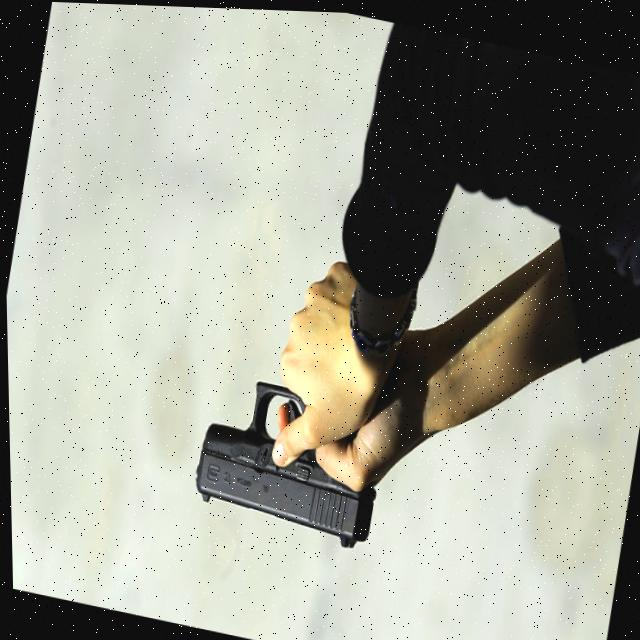pistol: (184, 365, 391, 554)
